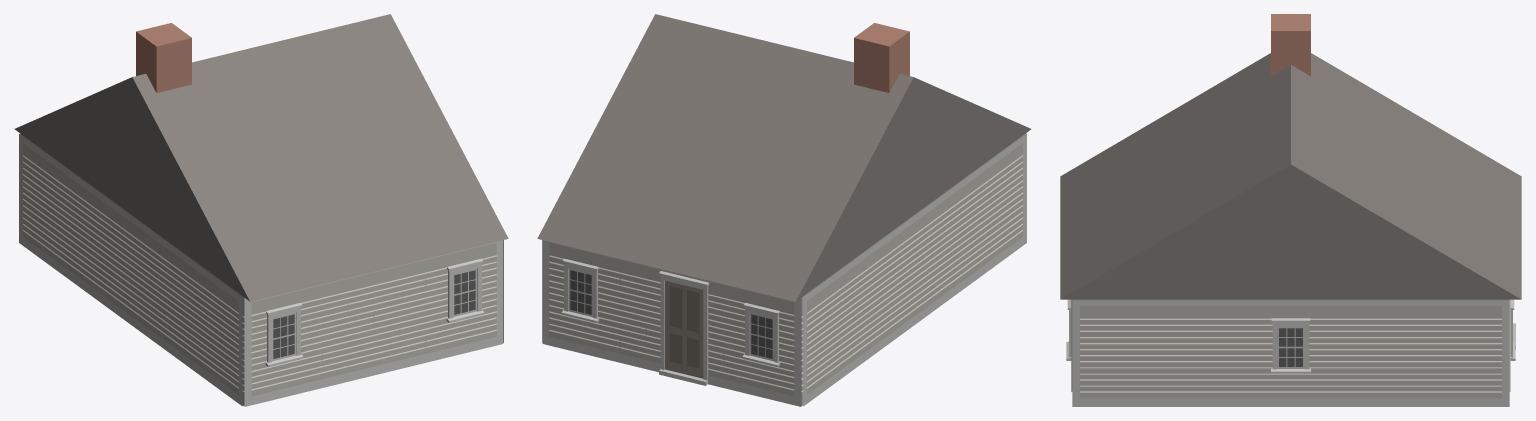
The model's file is recon_1835_west_044__inferred_1835.glb.
3 views of the same model, side by side, from view 1: azimuth 30°, elevation 25°; view 2: azimuth 150°, elevation 25°; view 3: azimuth 270°, elevation 25° (orthographic). The views are drawn at different scales.
Parts seen in each view (by area): view 1: recon_1835_west_044__inferred_1835; view 2: recon_1835_west_044__inferred_1835; view 3: recon_1835_west_044__inferred_1835.
Boxes of the visible parts, x1,y1,x2,y2 form: recon_1835_west_044__inferred_1835: (14,14,508,406); recon_1835_west_044__inferred_1835: (537,14,1031,406); recon_1835_west_044__inferred_1835: (1060,14,1521,406).
Bounding box in the file's own units: 6.25 × 6.36 × 9.64.
